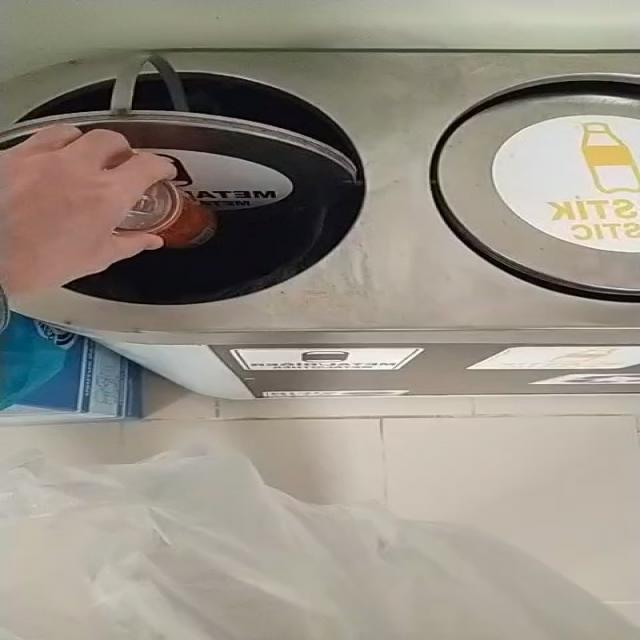Bin: (0, 51, 640, 400)
Metal: (115, 180, 216, 248)
